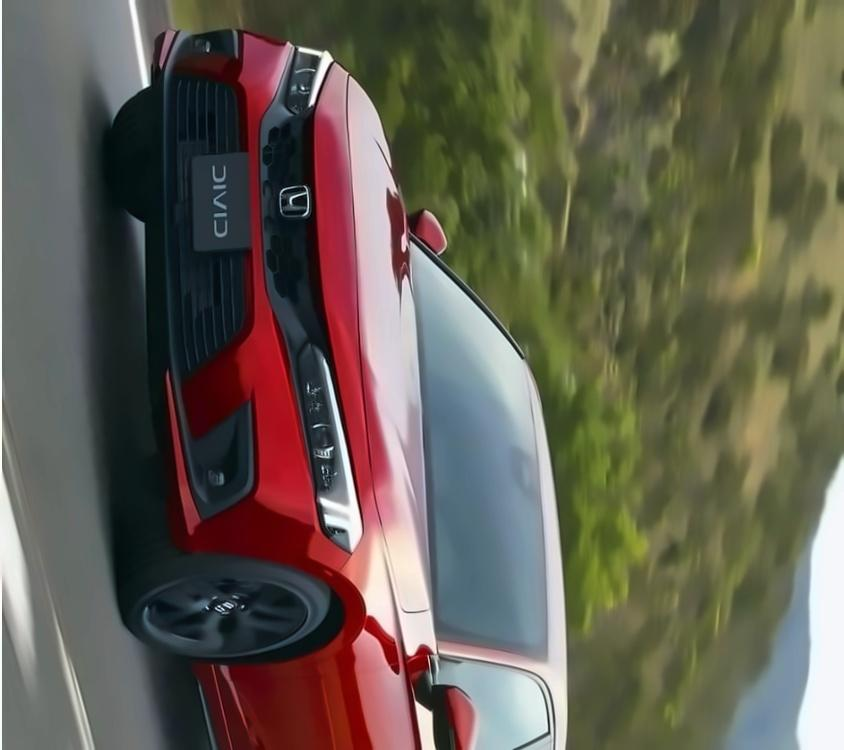Car hood: (310, 55, 442, 619)
Fender - -F-L-: (172, 542, 439, 692)
Front bumper: (140, 14, 295, 575)
Headlight - -L-: (290, 329, 368, 564)
Headlight - -R-: (280, 32, 341, 125)
Side mirror - -L-: (419, 662, 477, 750)
Side mirror - -R-: (400, 189, 454, 268)
